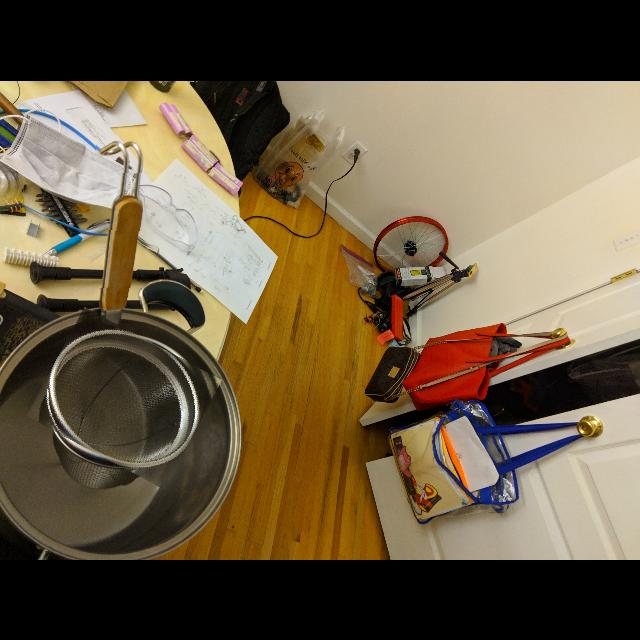Handle: (94, 134, 142, 326)
Strainer: (36, 321, 212, 474)
